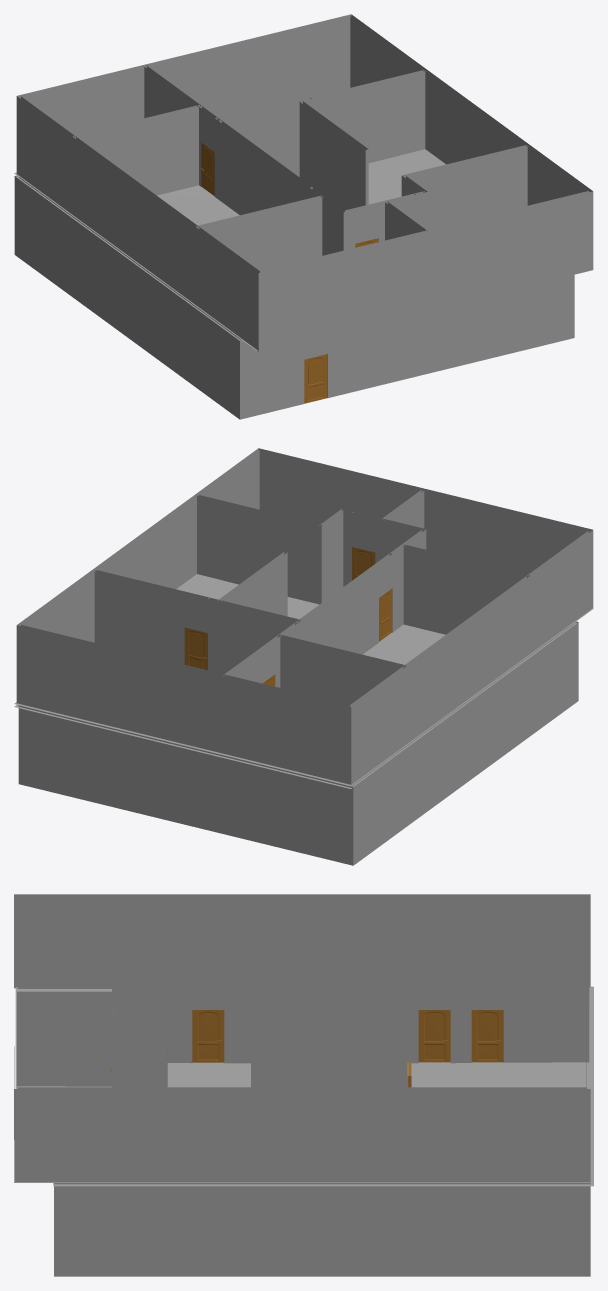
File: Casa 2.0 Ghus Famila CATOLICA.fbx
3 views of the same model, one above another, from view 1: azimuth 30°, elevation 25°; view 2: azimuth 150°, elevation 25°; view 3: azimuth 270°, elevation 25° (orthographic). The views are drawn at different scales.
Visible parts, largest first — view 1: pCube320, polySurface28, pCube325, pCube324, pCube326, pCube322, pCube330, pCube333, pCube319, pCube332, pCube321, pCube331 (+4 smaller); view 2: pCube320, polySurface28, pCube326, pCube325, pCube322, pCube319, pCube324, pCube330, pCube332, pCube321, pCube333, pCube327 (+6 smaller); view 3: pCube320, polySurface28, pCube331, pCube330, pCube333, pCube319, pCube329, pCube328, pCube327, pCube342, pCube340, pCube341.
Part boxes in pixels (x1,y1,x2,y2): pCube320: (16,14,593,351); polySurface28: (14,175,574,419); pCube325: (310,70,426,163); pCube324: (73,105,201,195); pCube326: (402,145,528,229); pCube322: (196,195,323,270); pCube330: (214,117,311,215); pCube333: (299,100,368,210); pCube319: (14,149,445,350); pCube332: (219,98,311,176); pCube321: (343,191,427,250); pCube331: (143,65,217,186); pCube320: (16,448,593,784); polySurface28: (18,621,578,865); pCube326: (196,494,322,604); pCube325: (94,569,209,664); pCube322: (402,544,529,634); pCube319: (14,574,593,788); pCube324: (277,634,406,704); pCube330: (295,553,392,654); pCube332: (208,597,300,674); pCube321: (342,508,425,586); pCube333: (217,551,287,616); pCube327: (319,509,343,602); pCube320: (14,894,590,1182); polySurface28: (54,1183,590,1276); pCube331: (418,967,589,1063); pCube330: (192,967,418,1063); pCube333: (251,1014,409,1087); pCube319: (15,986,593,1186); pCube329: (17,991,112,1086); pCube328: (112,967,192,1063); pCube327: (112,1015,167,1087); pCube342: (192,1010,224,1062); pCube340: (471,1010,503,1062); pCube341: (418,1010,450,1062).
Size of the model in its own units: 17.96 by 8.06 by 22.4.
